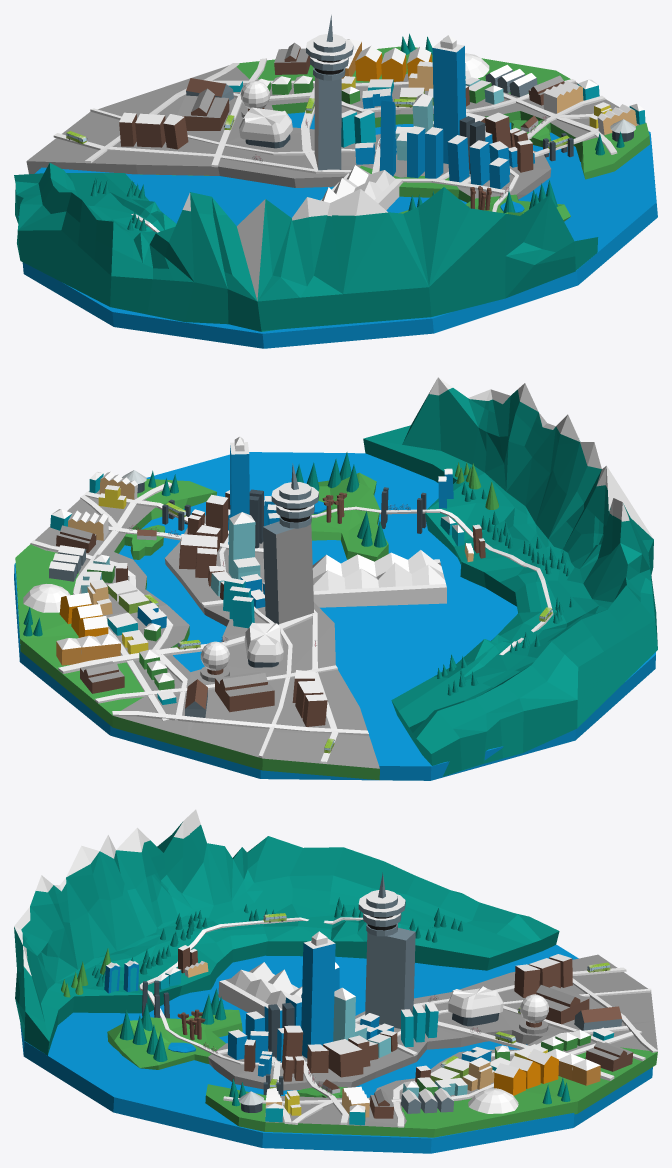
File: gooOutcome.glb
The picture shows the model from 3 angles, top to bottom: view 1: azimuth 30°, elevation 25°; view 2: azimuth 150°, elevation 25°; view 3: azimuth 270°, elevation 25°; orthographic projection.
Visible parts, largest first — view 1: group2146409170; view 2: group2146409170; view 3: group2146409170.
Boxes of the visible parts, x1=… form: group2146409170: x1=14, y1=15, x2=657, y2=348; group2146409170: x1=14, y1=377, x2=657, y2=780; group2146409170: x1=14, y1=809, x2=657, y2=1153.
Bounding box in the file's own units: 8.83 × 3.02 × 8.9.
19 materials, 2 textured.
